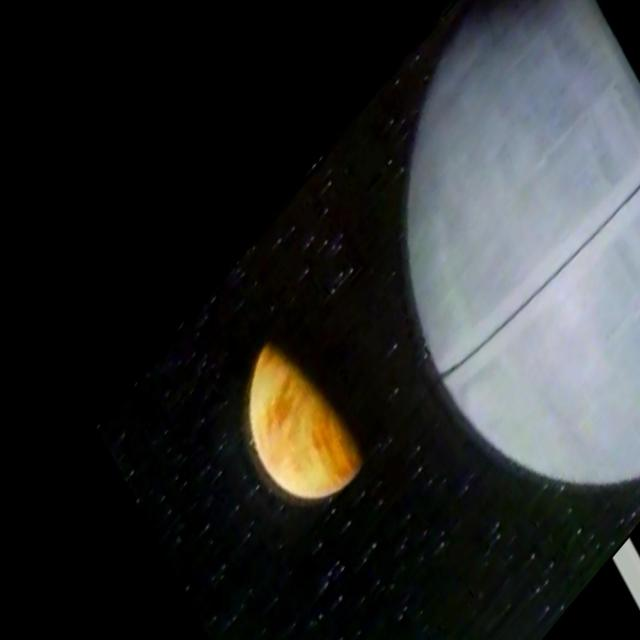deathstar: (407, 2, 640, 484)
